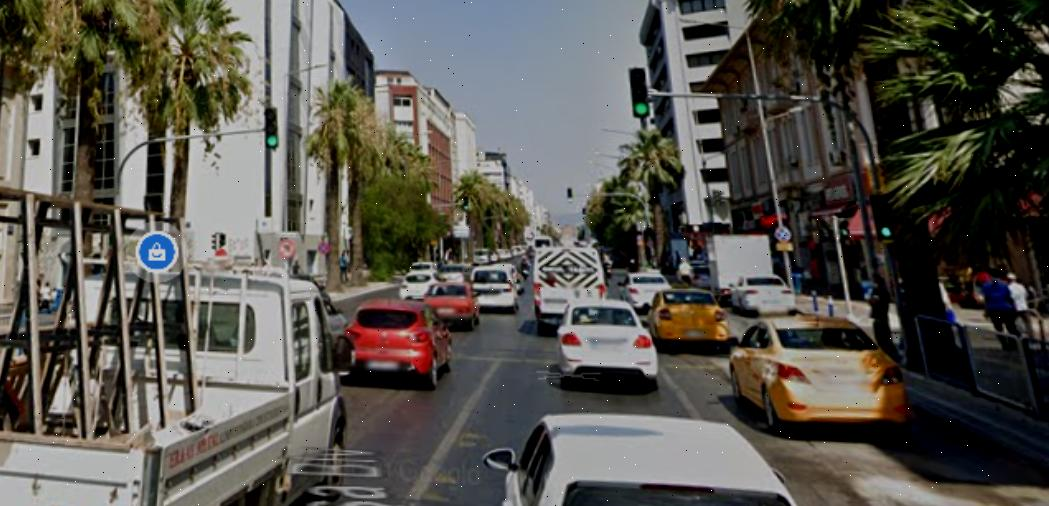greenlight: (629, 66, 650, 117), (264, 107, 279, 147)
